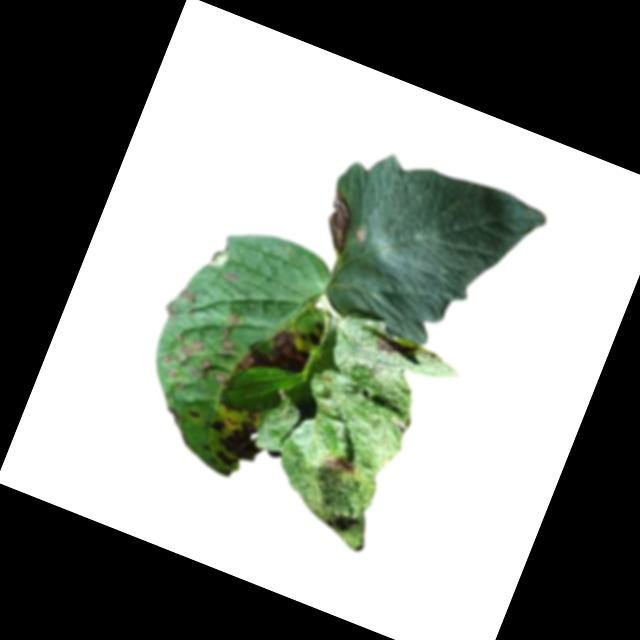Early_blight: (235, 307, 325, 395), (202, 409, 272, 476), (313, 188, 366, 256), (212, 311, 246, 363), (318, 449, 359, 480), (176, 332, 205, 361), (188, 356, 213, 382), (372, 333, 397, 354), (183, 403, 203, 420), (209, 370, 229, 386)
